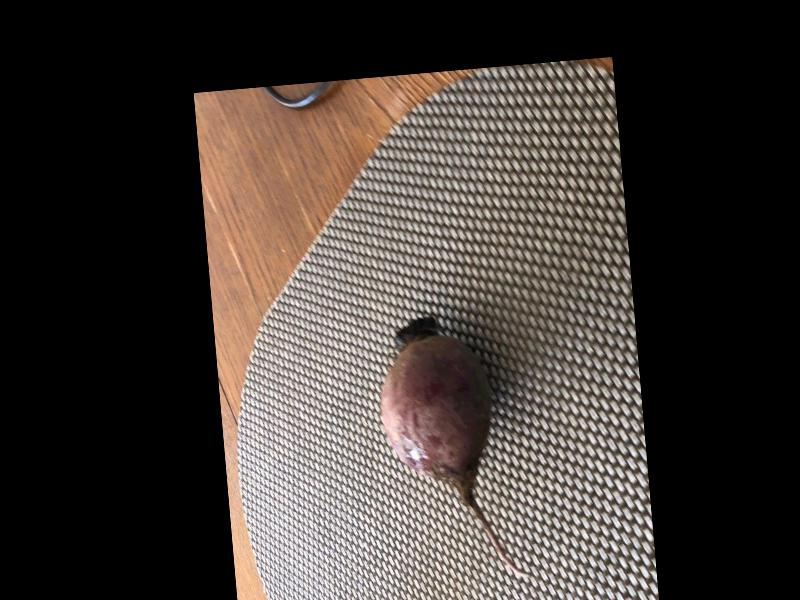Beet: (373, 308, 530, 588)
